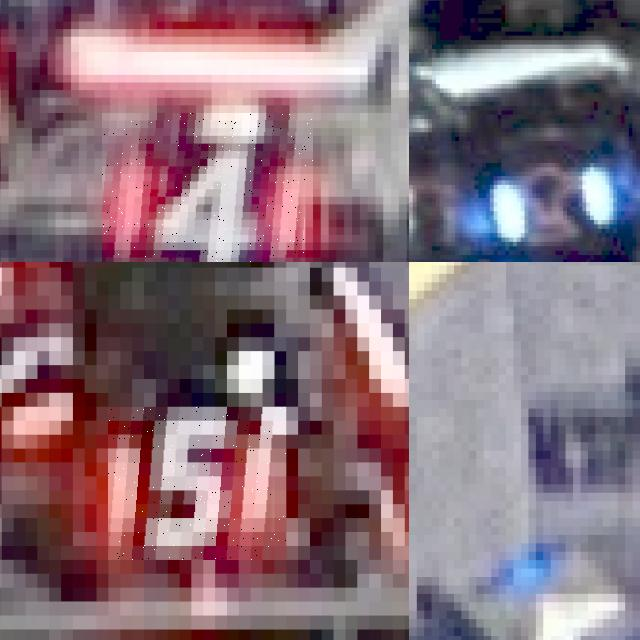Bs: (486, 163, 613, 242)
R4: (102, 113, 312, 262)
R5: (108, 407, 286, 560)
